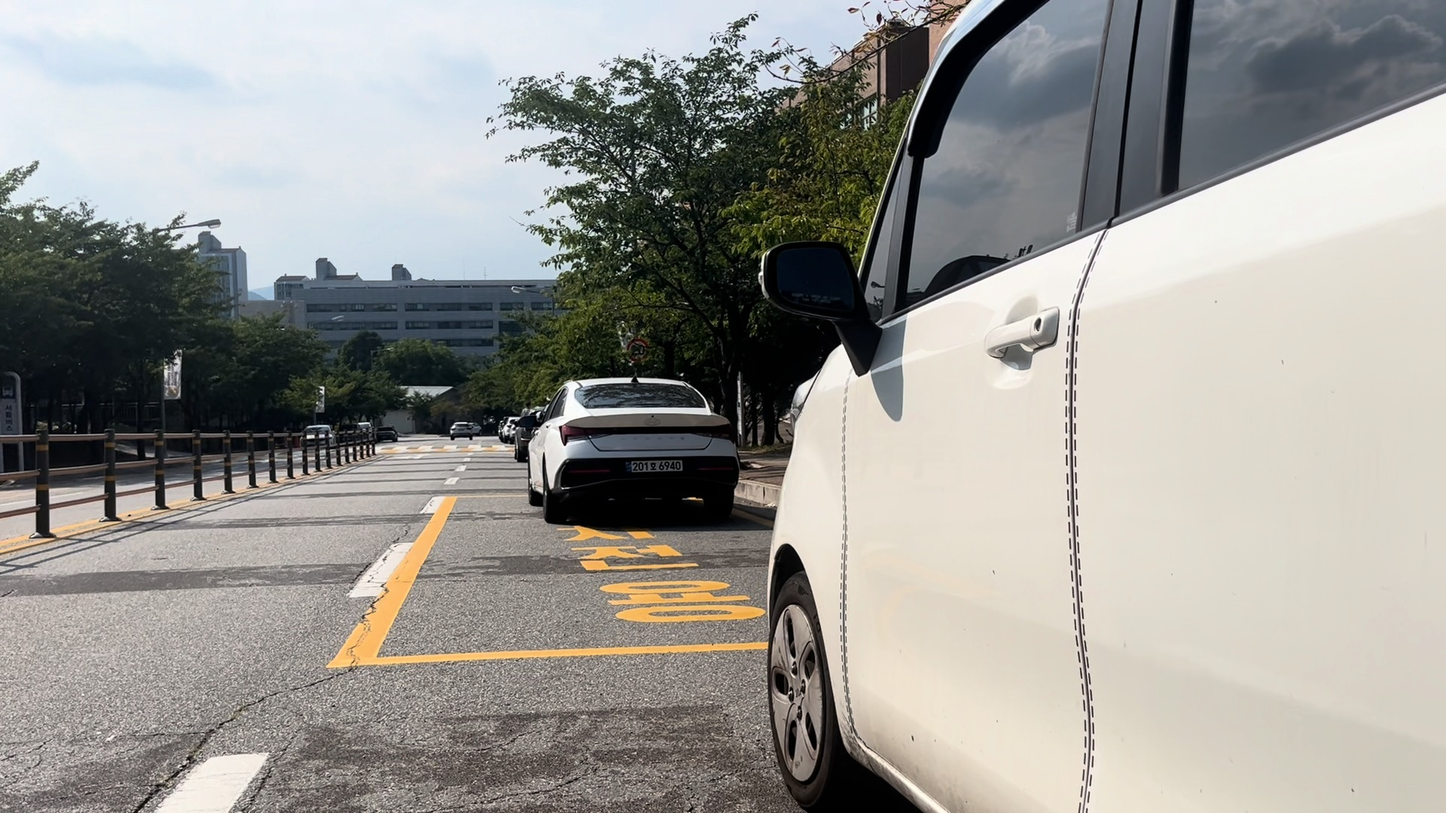door_handle: (985, 307, 1060, 358)
side_mirror: (757, 242, 853, 312)
tail_light: (559, 424, 611, 444), (695, 425, 736, 444)
